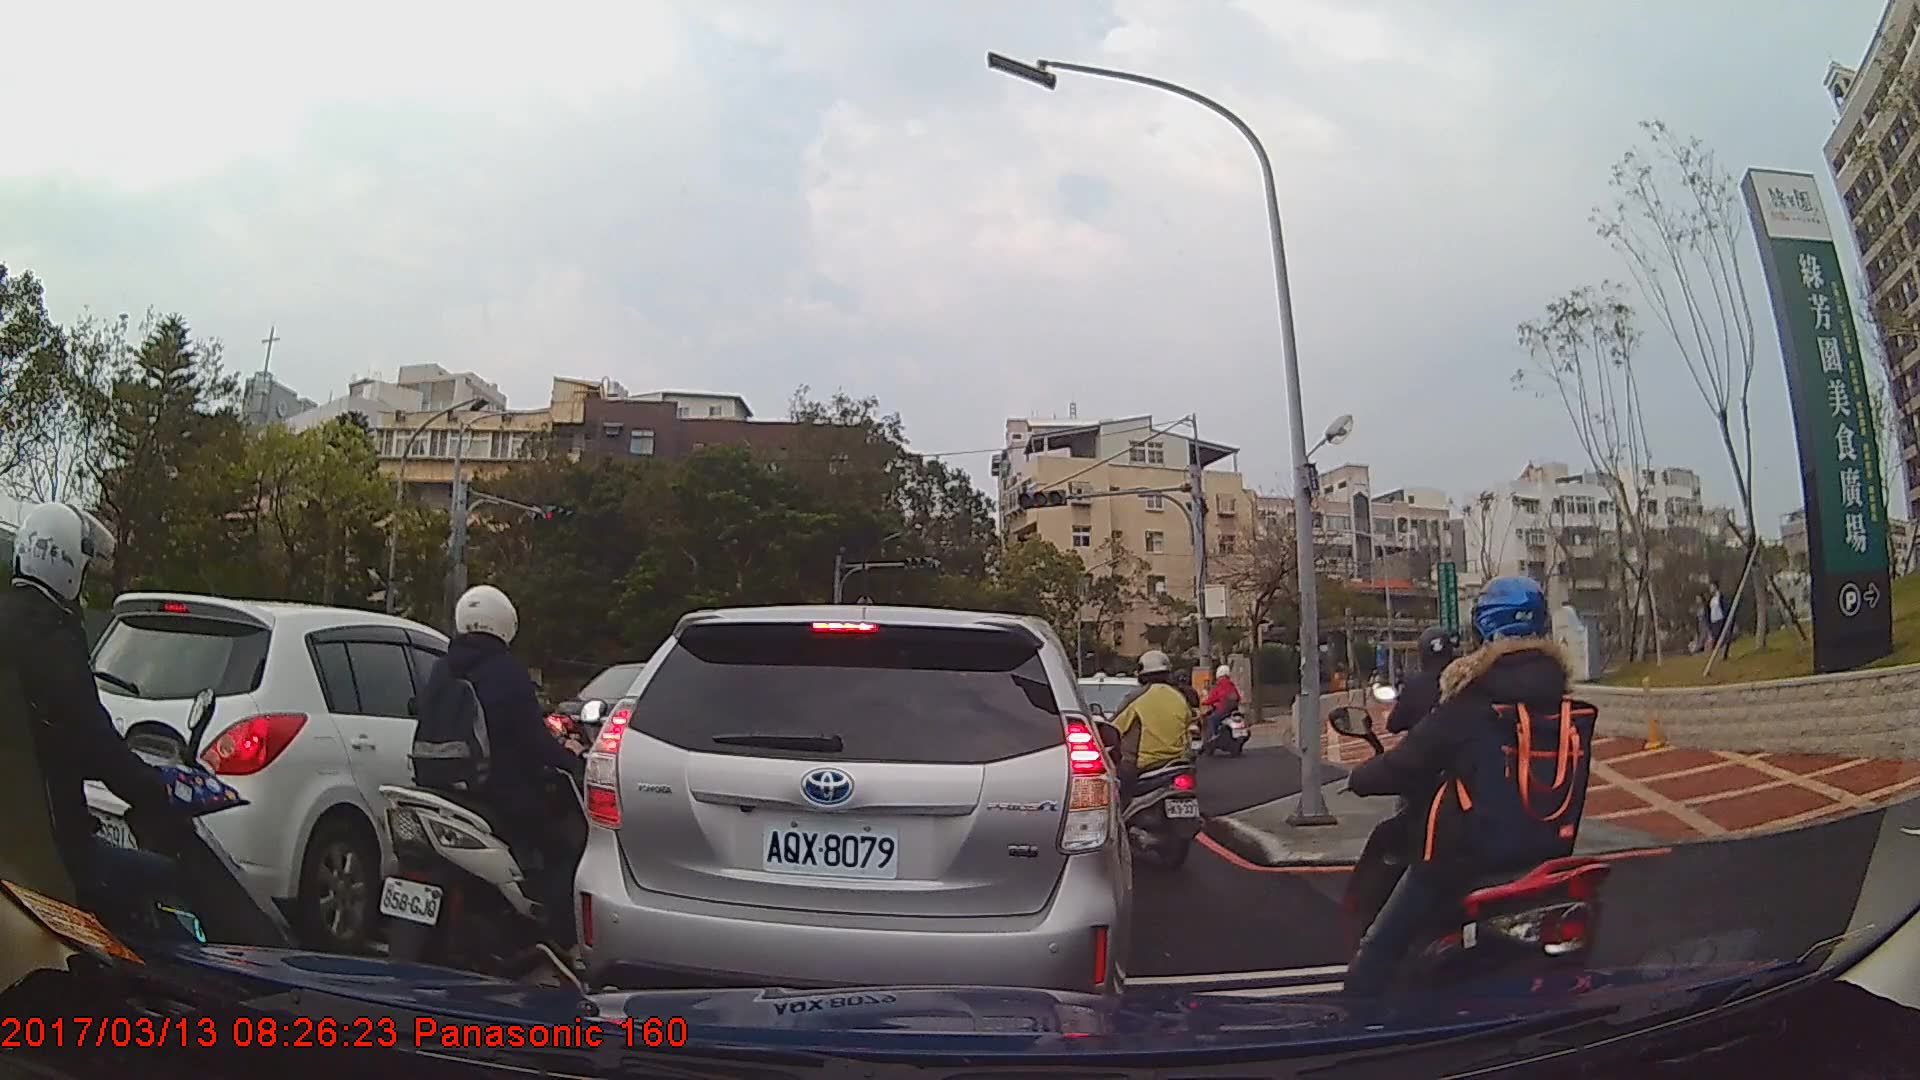pedestrian: (1699, 576, 1740, 660), (1687, 582, 1718, 660)
rider: (1, 498, 297, 1080), (1348, 571, 1623, 1038), (381, 583, 597, 990), (1099, 650, 1203, 871), (1194, 663, 1255, 758)
vehicle: (572, 603, 1134, 1025), (68, 590, 566, 956)
